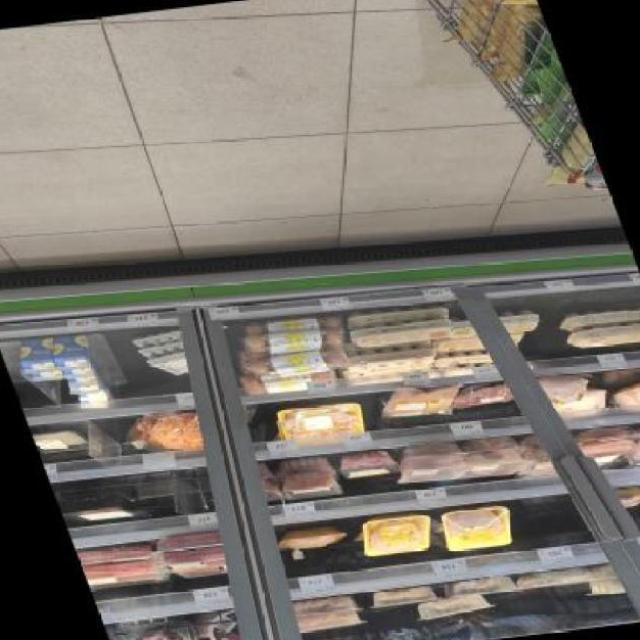Egg: (431, 503, 525, 557), (352, 510, 445, 564), (268, 397, 373, 443), (118, 409, 211, 459), (348, 315, 457, 349), (375, 382, 466, 422), (151, 543, 238, 580), (269, 520, 355, 557), (391, 453, 477, 490), (82, 555, 166, 592), (58, 493, 145, 528), (409, 590, 495, 624), (342, 344, 439, 374), (558, 318, 640, 353), (104, 615, 214, 640), (273, 468, 349, 504), (459, 447, 535, 482), (331, 448, 407, 483), (30, 419, 95, 459), (568, 435, 640, 470), (293, 607, 372, 638), (287, 591, 366, 622), (362, 582, 441, 612), (445, 573, 523, 603), (516, 564, 594, 593), (539, 373, 595, 406), (14, 336, 61, 375), (48, 334, 95, 372), (622, 432, 640, 469)
